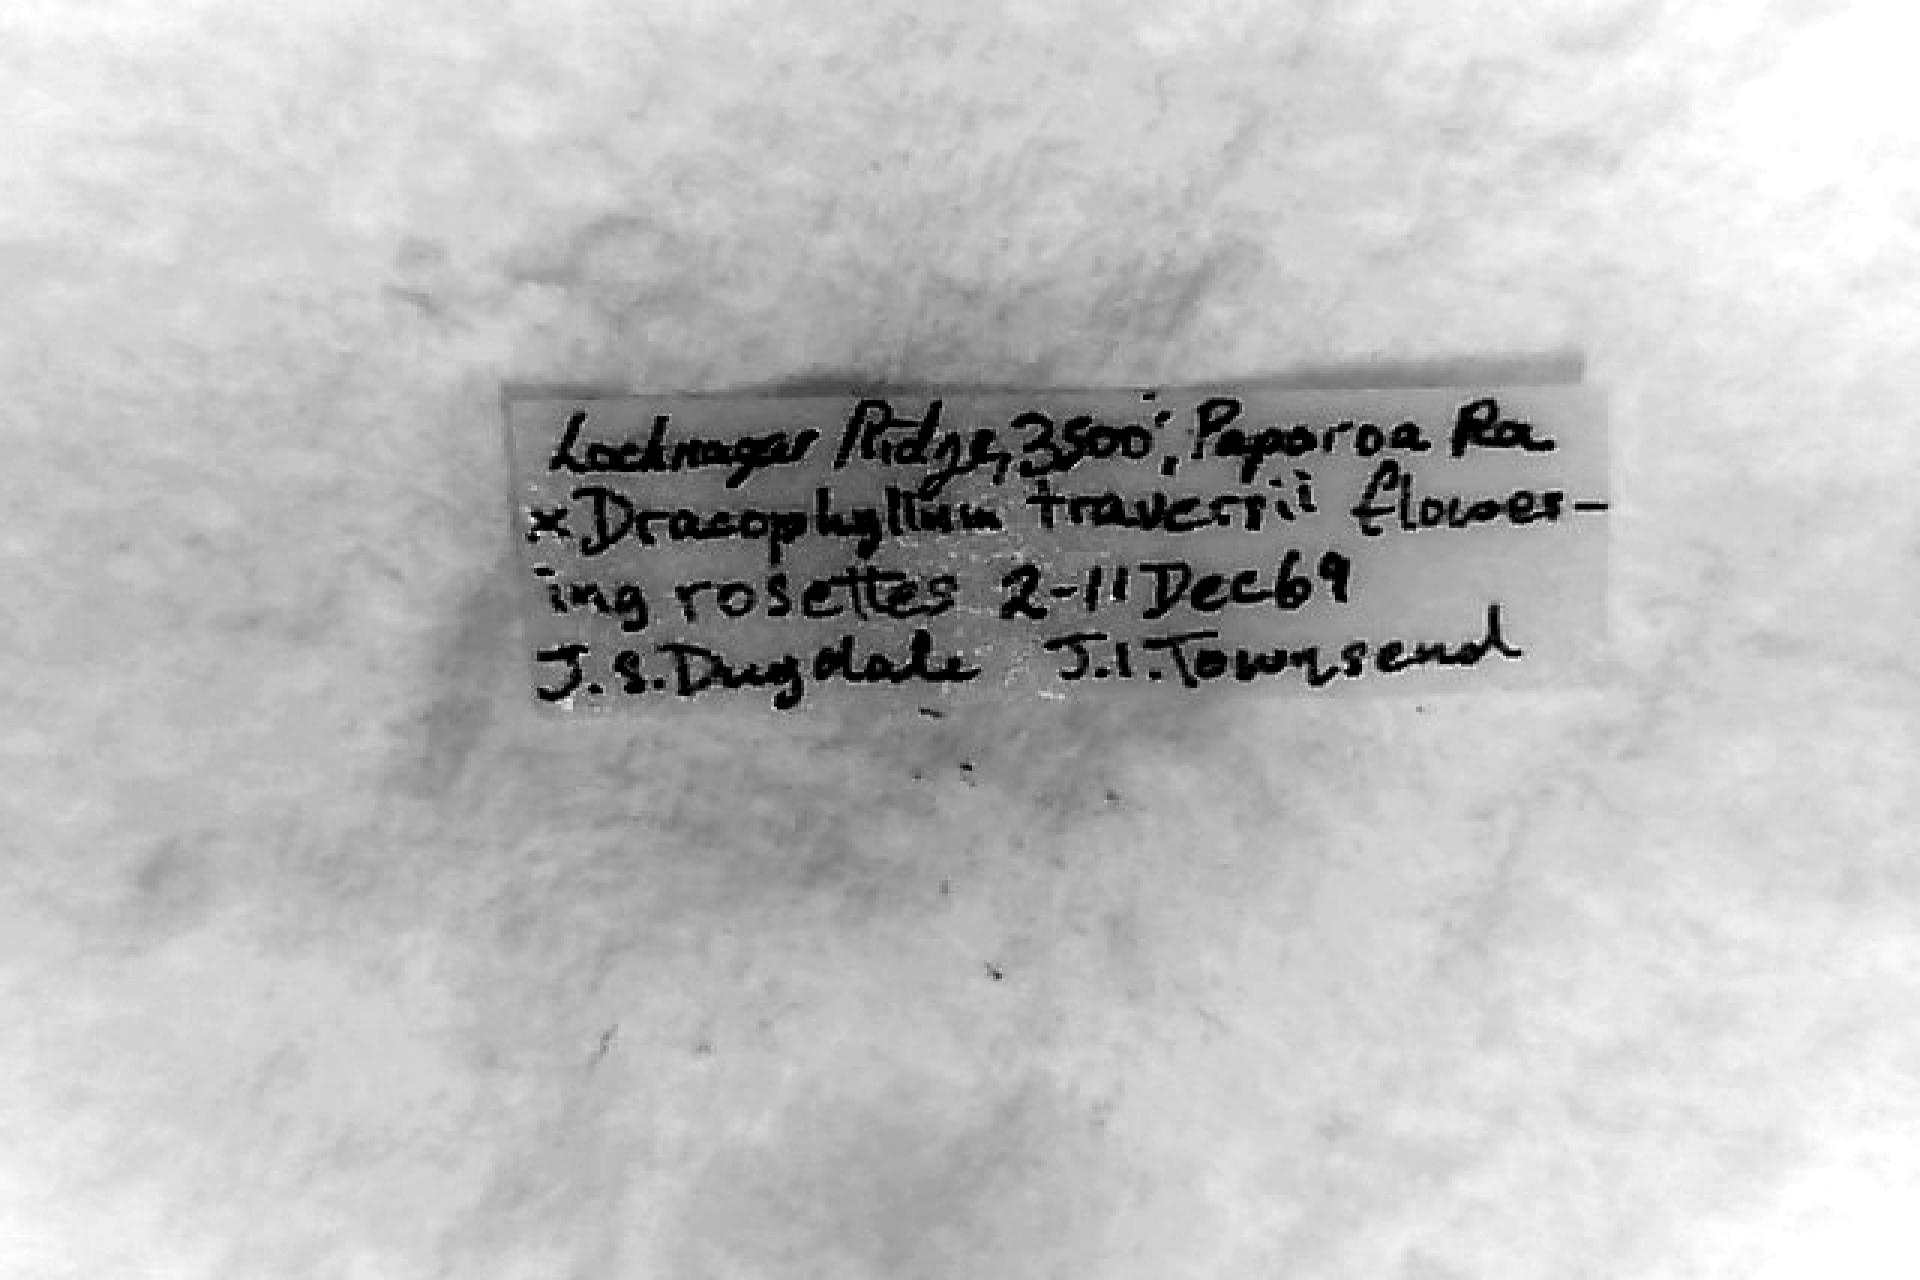hand_label: (506, 360, 1606, 713)
